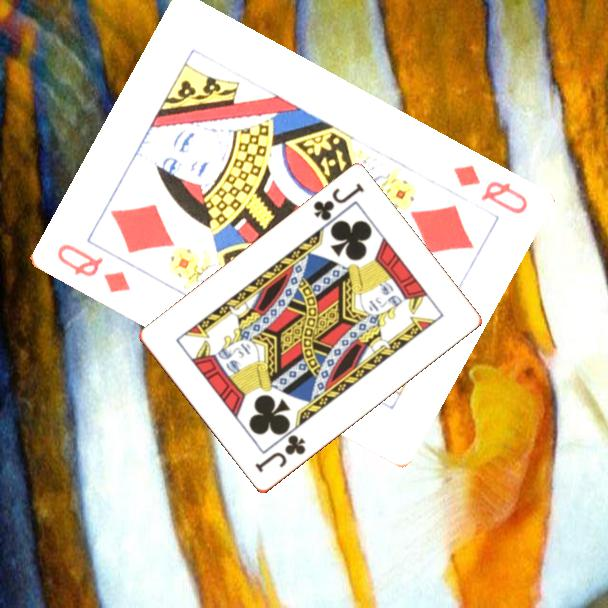c11: (251, 432, 309, 476), (310, 180, 367, 224)
d12: (448, 161, 530, 218), (52, 240, 133, 296)
